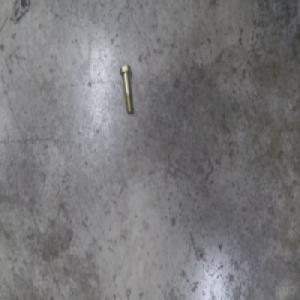Bolt: (121, 62, 134, 112)
